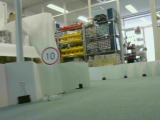speed_10: (39, 46, 62, 65)
